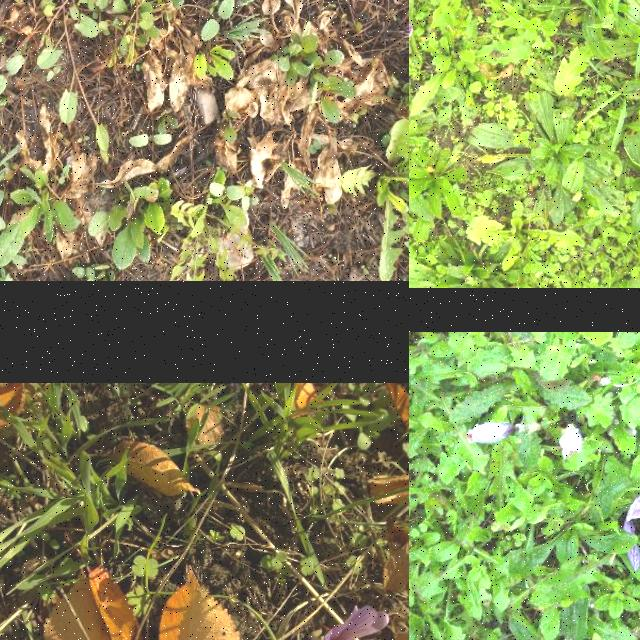flower: (299, 606, 409, 640), (468, 422, 516, 446), (560, 429, 582, 457)
